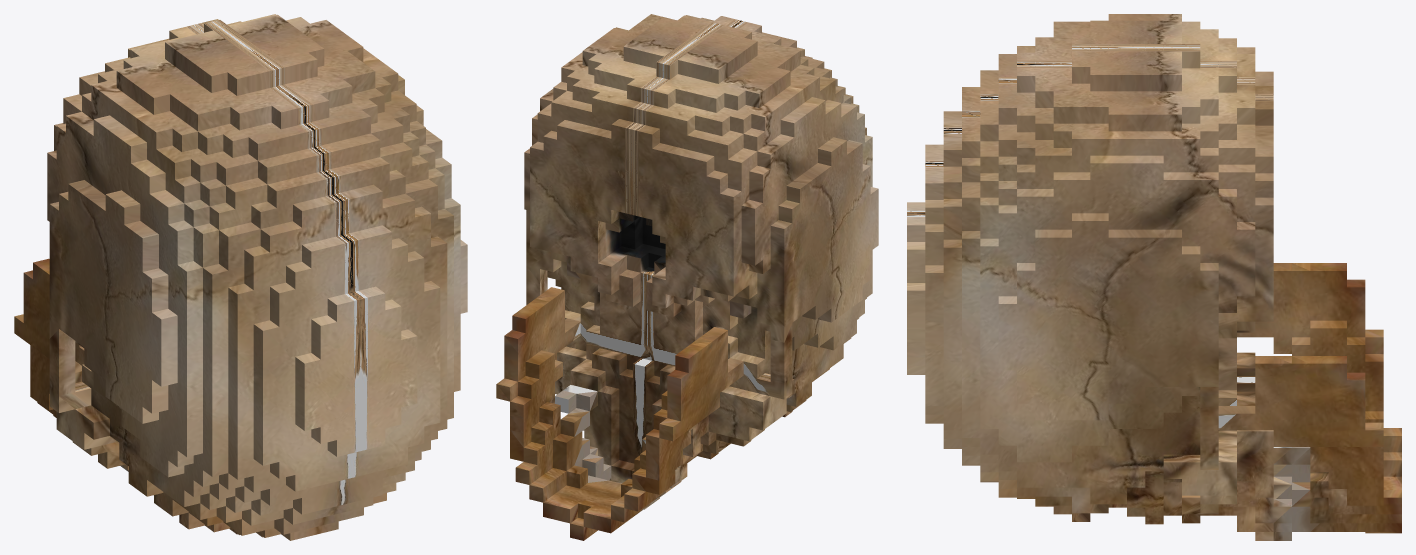
File: calavera_gltf_textured.glb
The picture shows the model from 3 angles, left to right: view 1: azimuth 30°, elevation 25°; view 2: azimuth 150°, elevation 25°; view 3: azimuth 270°, elevation 25°; orthographic projection. The views are drawn at different scales.
Parts seen in each view (by area): view 1: Remeshed; view 2: Remeshed; view 3: Remeshed.
Boxes of the visible parts, x1,y1,x2,y2 form: Remeshed: [14, 14, 467, 540]; Remeshed: [496, 14, 878, 540]; Remeshed: [907, 14, 1401, 540].
Bounding box in the file's own units: 19.43 × 29.66 × 27.61.
1 material, 1 textured.
